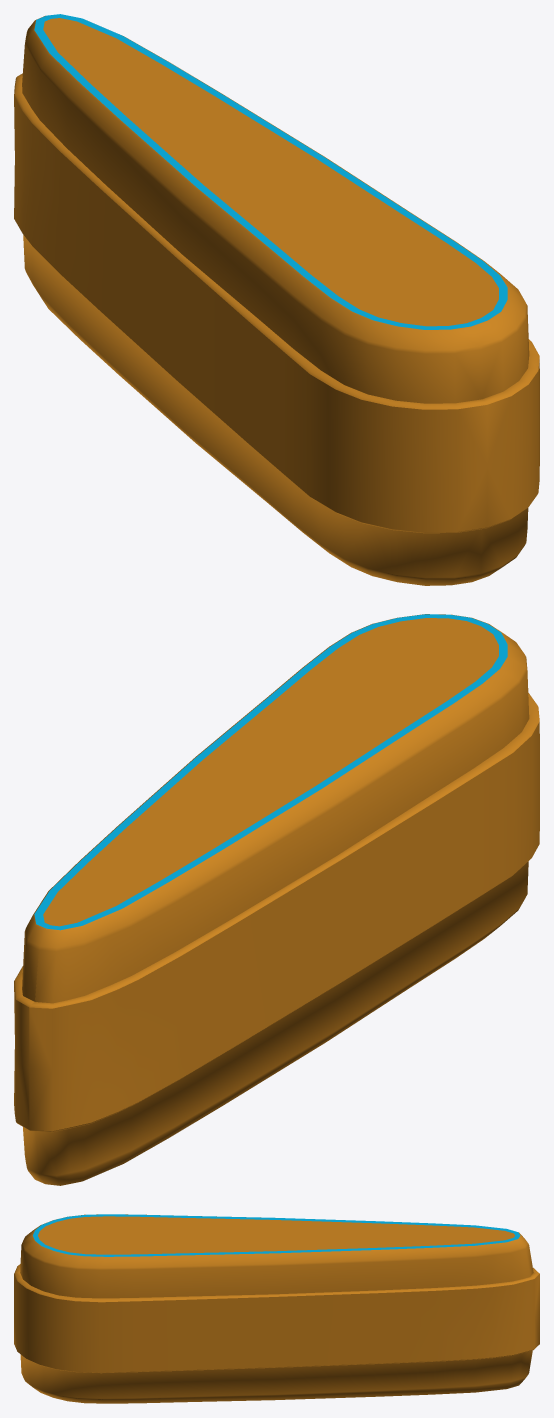
The model's file is Re_Flipper.fbx.
3 views of the same model, one above another, from view 1: azimuth 30°, elevation 25°; view 2: azimuth 150°, elevation 25°; view 3: azimuth 270°, elevation 25° (orthographic). The views are drawn at different scales.
Parts seen in each view (by area): view 1: Re_Flipper; view 2: Re_Flipper; view 3: Re_Flipper.
Part boxes in pixels (<box>): Re_Flipper: <box>14,14,539,585</box>; Re_Flipper: <box>14,614,539,1185</box>; Re_Flipper: <box>14,1214,539,1403</box>.
Size of the model in its own units: 2.28 by 2.74 by 8.9.
